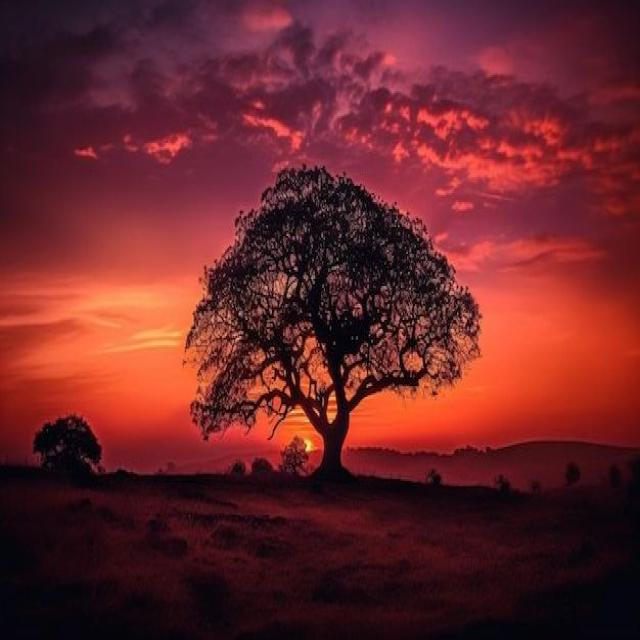Acacia: (183, 180, 461, 497), (34, 400, 106, 480)
